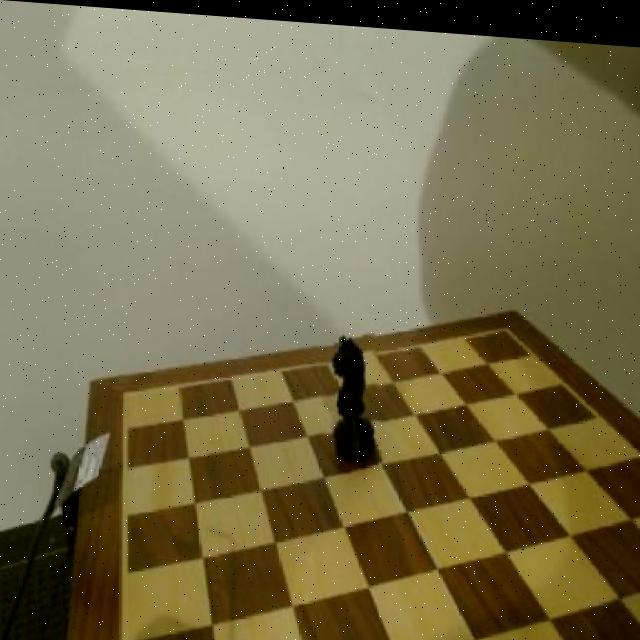black-king: (321, 315, 380, 470)
